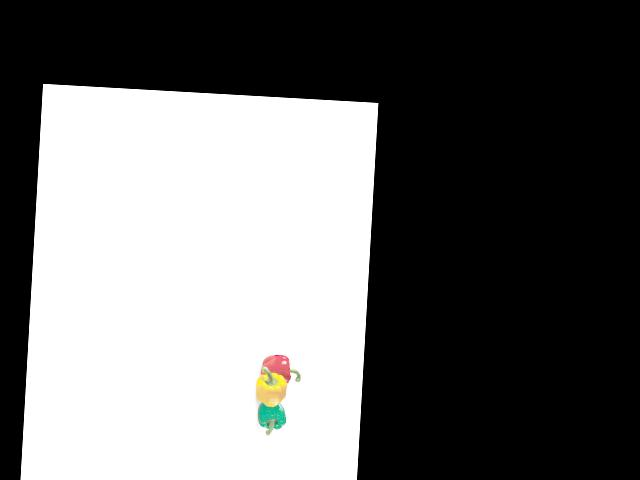bell_pepper: (253, 398, 289, 435)
